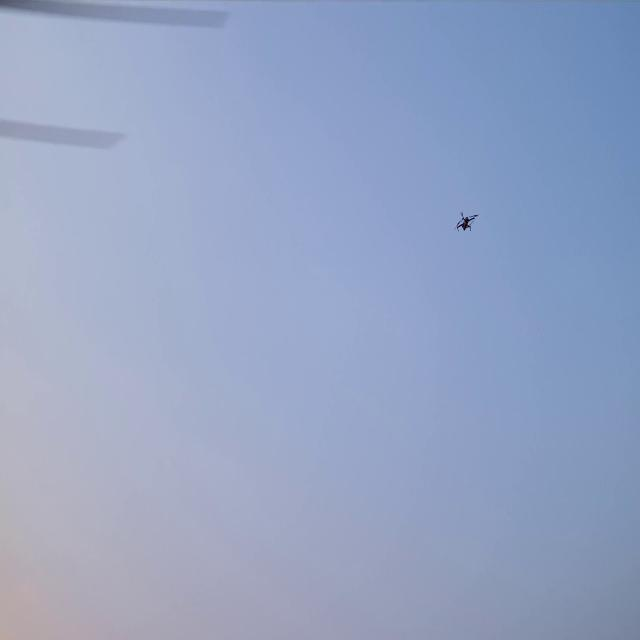UAV: (453, 209, 479, 232)
